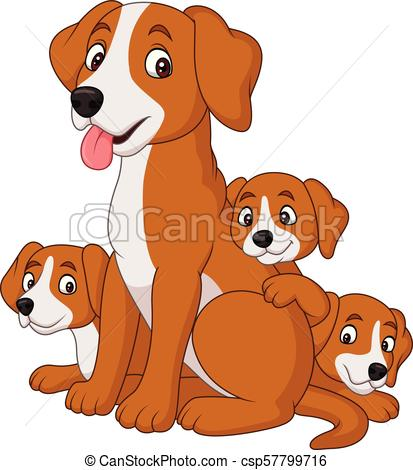dog: (48, 3, 373, 470), (4, 236, 138, 397), (219, 169, 350, 292), (305, 279, 413, 419)
